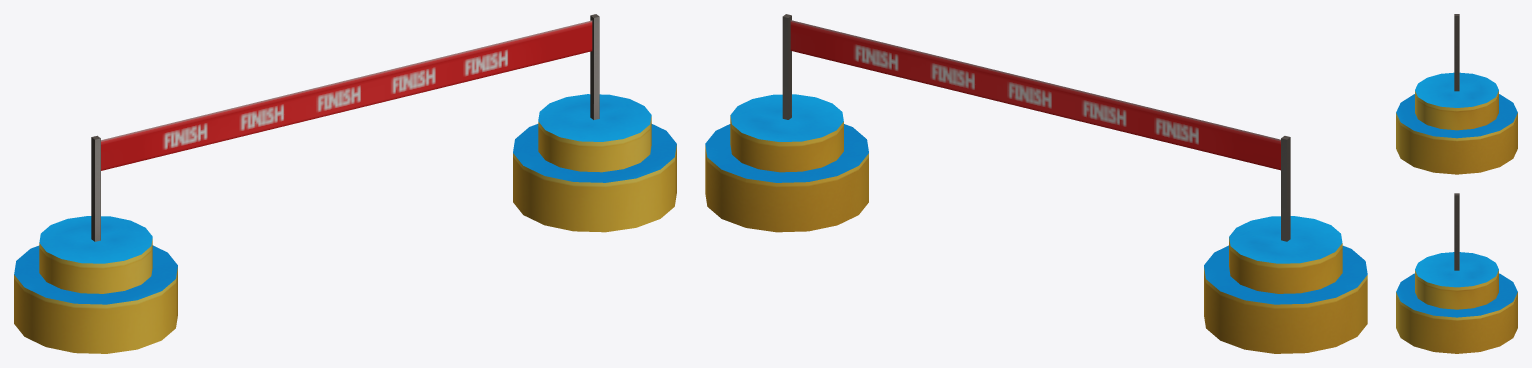
File: jieshu.FBX
3 renders of one model, left to right at view 1: azimuth 30°, elevation 25°; view 2: azimuth 150°, elevation 25°; view 3: azimuth 270°, elevation 25°, orthographic. The views are drawn at different scales.
Visible parts, largest first — view 1: Object02; view 2: Object02; view 3: Object02.
Boxes of the visible parts, x1,y1,x2,y2 form: Object02: [14, 14, 676, 353]; Object02: [705, 14, 1367, 353]; Object02: [1396, 14, 1517, 353].
Size of the model in its own units: 182 by 40.52 by 49.1.
Materials: 1 (1 with a texture image).
